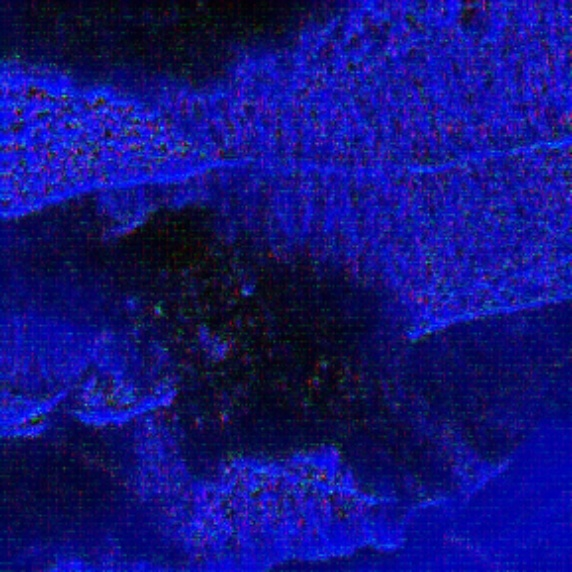rip_current: (61, 164, 440, 509)
